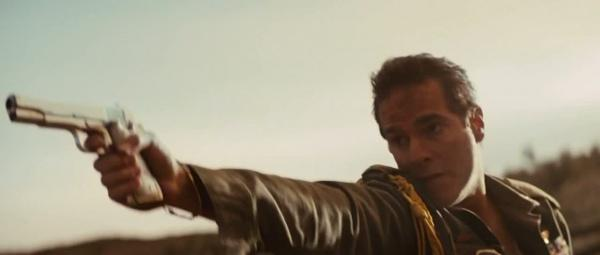Gun: (6, 93, 164, 211)
